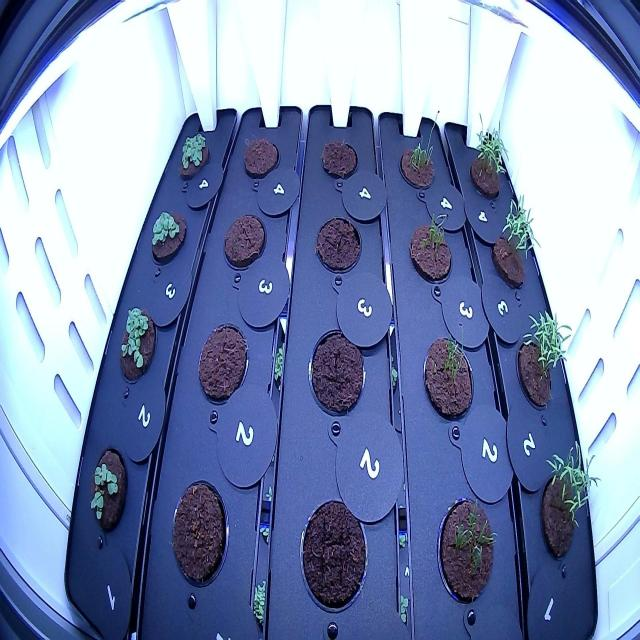germination: (533, 432, 609, 580), (430, 485, 502, 617), (512, 304, 578, 417), (418, 314, 478, 430), (486, 187, 546, 300), (462, 106, 514, 208), (84, 435, 132, 541), (403, 199, 455, 293), (396, 101, 444, 195), (114, 296, 159, 391), (145, 200, 191, 272), (170, 126, 213, 185)
pod: (292, 491, 372, 622), (162, 473, 234, 597), (300, 322, 371, 424), (191, 316, 254, 412), (309, 207, 367, 284), (218, 204, 269, 276), (238, 128, 282, 185), (315, 134, 362, 186)
